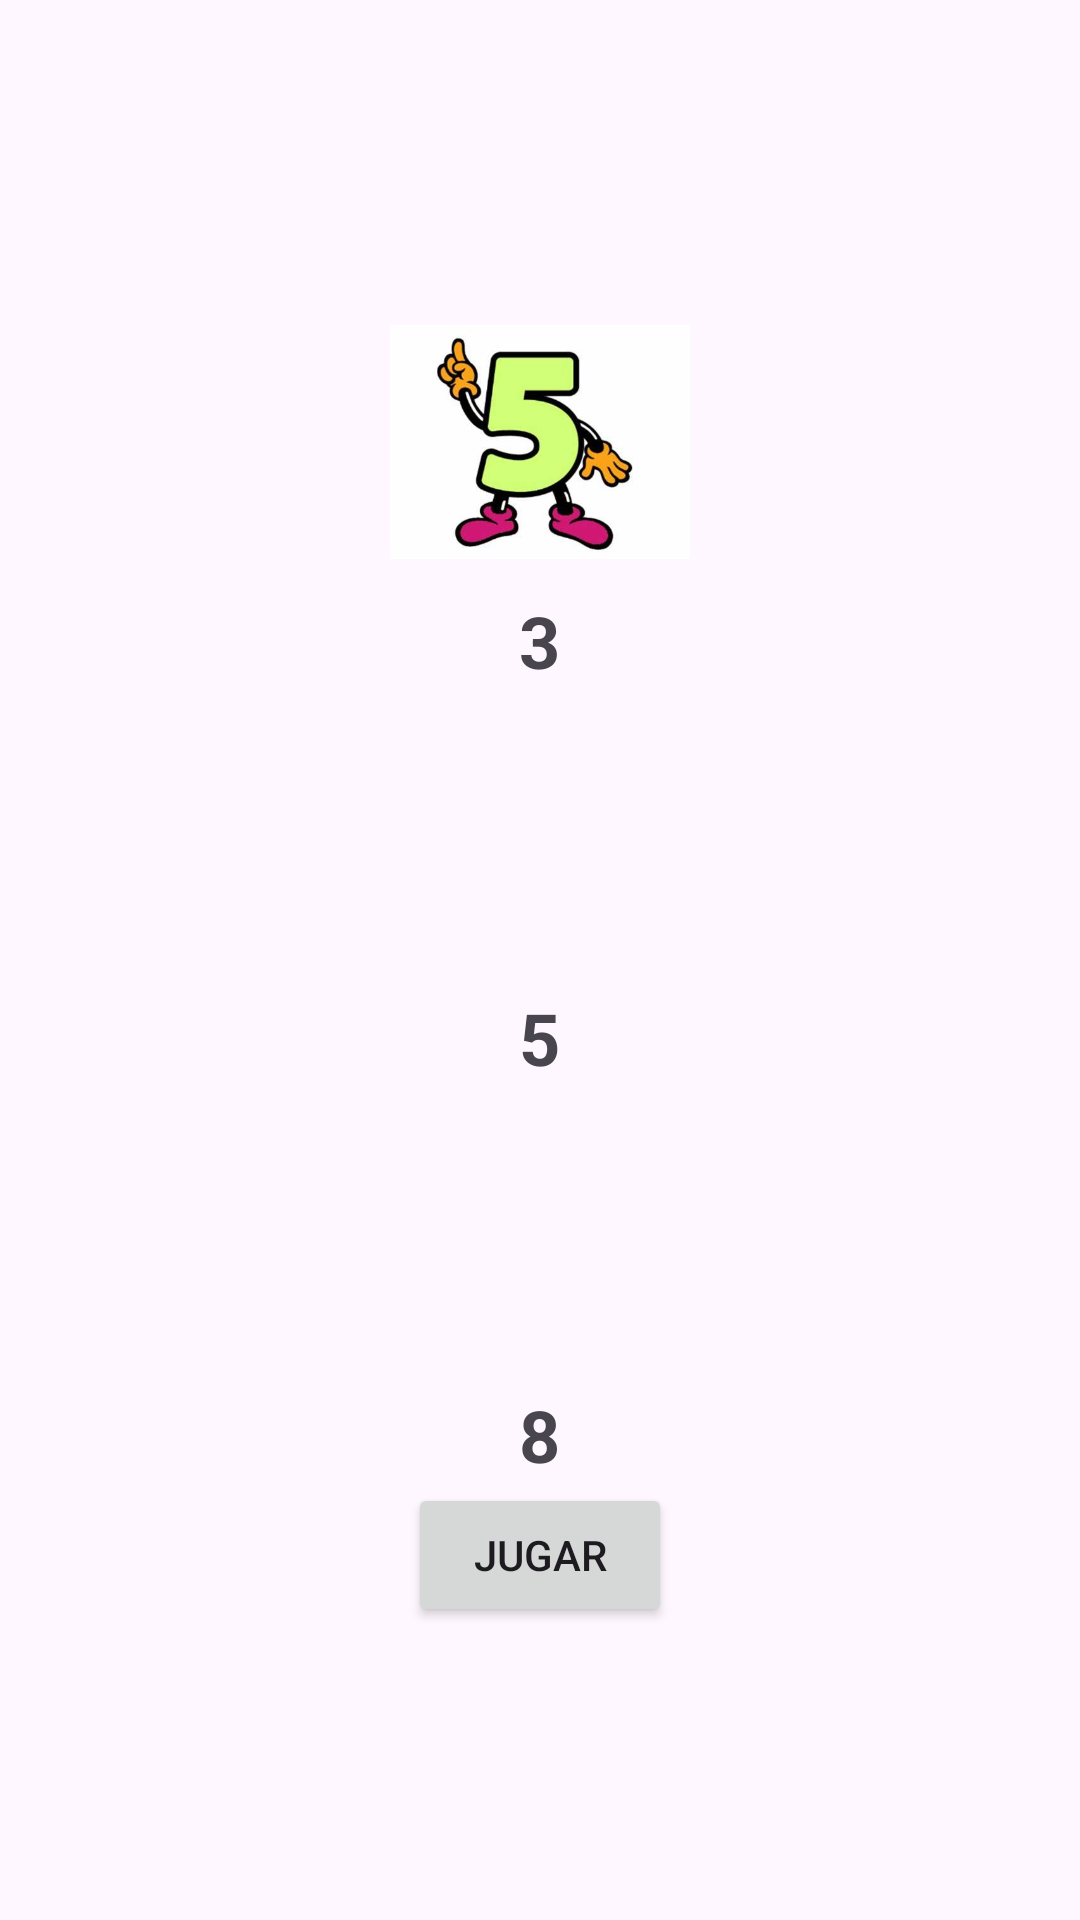

Icons on this 1080w x 1920h Android screen, each with the point to tap as point (x, y):
Imagen Aleatoria 1: point (535, 444)
